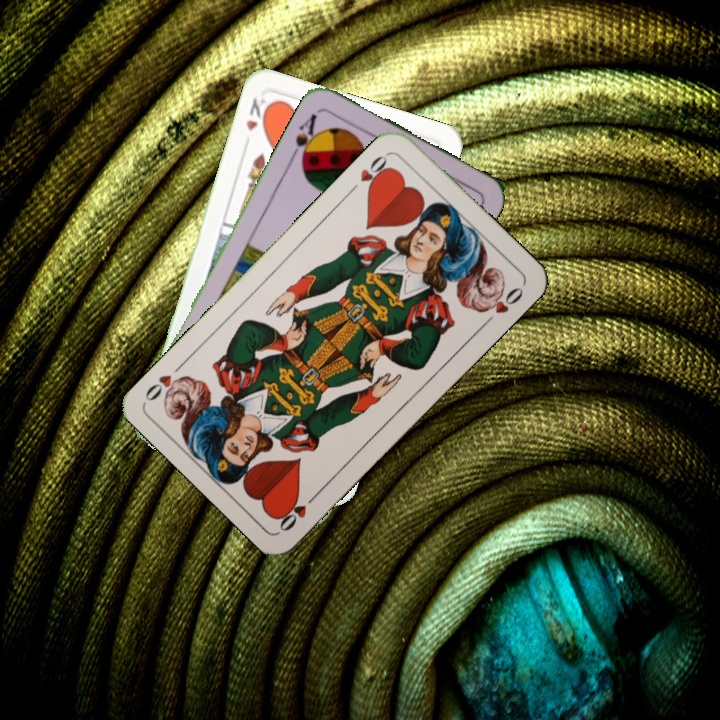HK: (241, 93, 273, 134)
HO: (274, 487, 322, 535), (345, 149, 394, 196)
SA: (286, 109, 324, 167)
